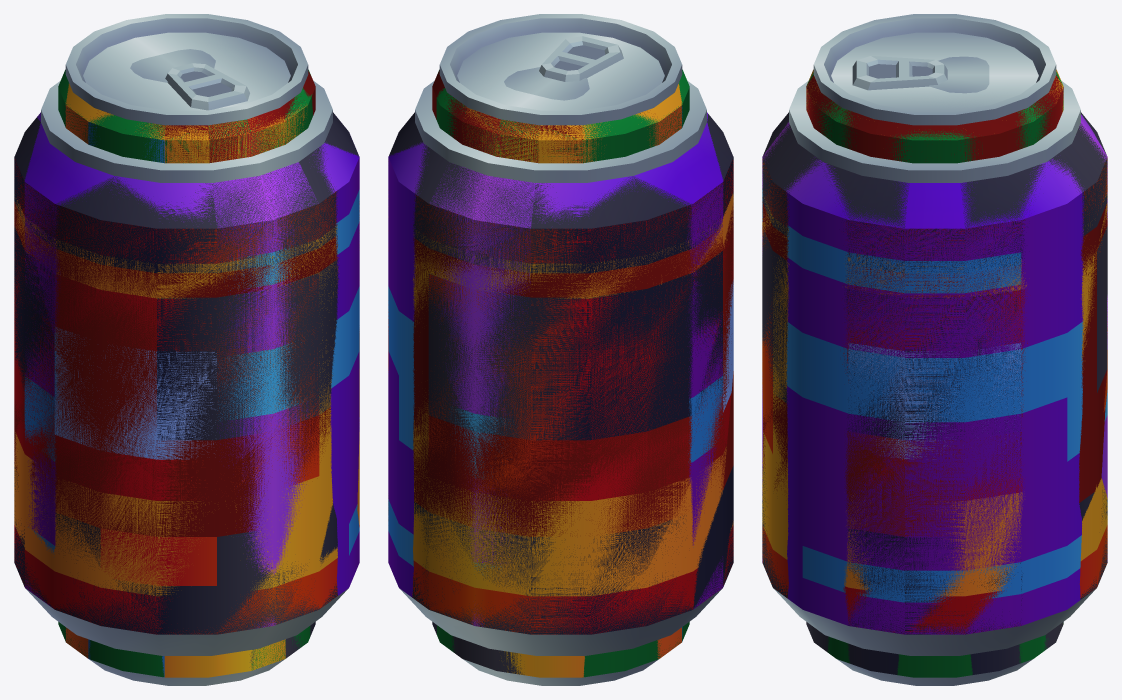
File: cans.fbx
3 views of the same model, side by side, from view 1: azimuth 30°, elevation 25°; view 2: azimuth 150°, elevation 25°; view 3: azimuth 270°, elevation 25° (orthographic).
Parts seen in each view (by area): view 1: can2, can1, can3, can_tall3, can_tall2, can_tall1; view 2: can2, can1, can3, can_tall3, can_tall2, can_tall1; view 3: can3, can2, can1, can_tall3, can_tall1, can_tall2.
Boxes of the visible parts, x1=… form: can2: x1=14, y1=81, x2=359, y2=655; can1: x1=14, y1=159, x2=359, y2=634; can3: x1=24, y1=81, x2=359, y2=655; can_tall3: x1=66, y1=14, x2=315, y2=685; can_tall2: x1=65, y1=14, x2=307, y2=685; can_tall1: x1=58, y1=14, x2=312, y2=685; can2: x1=388, y1=81, x2=733, y2=655; can1: x1=388, y1=160, x2=733, y2=634; can3: x1=388, y1=81, x2=723, y2=648; can_tall3: x1=432, y1=14, x2=681, y2=685; can_tall2: x1=444, y1=14, x2=682, y2=685; can_tall1: x1=436, y1=14, x2=689, y2=685; can3: x1=762, y1=81, x2=1107, y2=655; can2: x1=762, y1=82, x2=1107, y2=655; can1: x1=762, y1=157, x2=1107, y2=634; can_tall3: x1=806, y1=14, x2=1063, y2=685; can_tall1: x1=807, y1=14, x2=1063, y2=678; can_tall2: x1=806, y1=14, x2=1063, y2=114.
Size of the model in its own units: 11.56 by 21.64 by 11.73.
